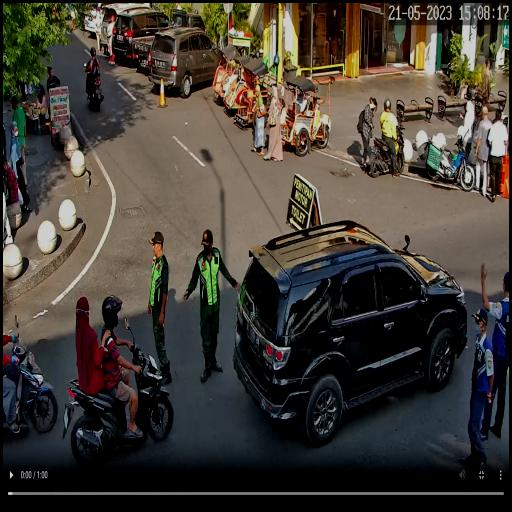mobil: (233, 218, 467, 440), (132, 10, 206, 78), (150, 27, 220, 97), (113, 8, 169, 66)
motor: (58, 320, 171, 464), (370, 126, 408, 183), (82, 56, 104, 116)
